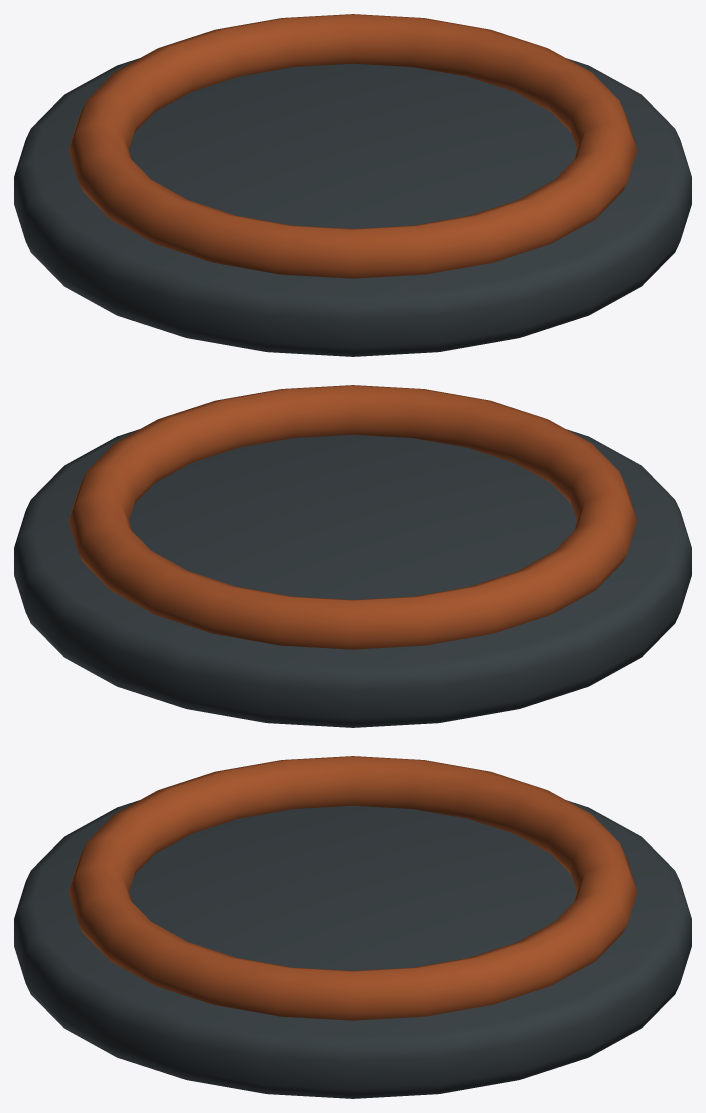
File: StoveBurner.fbx
The picture shows the model from 3 angles, top to bottom: view 1: azimuth 30°, elevation 25°; view 2: azimuth 150°, elevation 25°; view 3: azimuth 270°, elevation 25°; orthographic projection.
Visible parts, largest first — view 1: Burner, BurnerRing; view 2: Burner, BurnerRing; view 3: Burner, BurnerRing.
Part boxes in pixels (box(x1,y1,x2,y2)): Burner: box(14, 58, 691, 356); BurnerRing: box(68, 14, 637, 278); Burner: box(14, 429, 691, 727); BurnerRing: box(68, 385, 637, 649); Burner: box(14, 800, 691, 1098); BurnerRing: box(68, 756, 637, 1020).
Bounding box in the file's own units: 0.56 × 0.0895 × 0.56.
